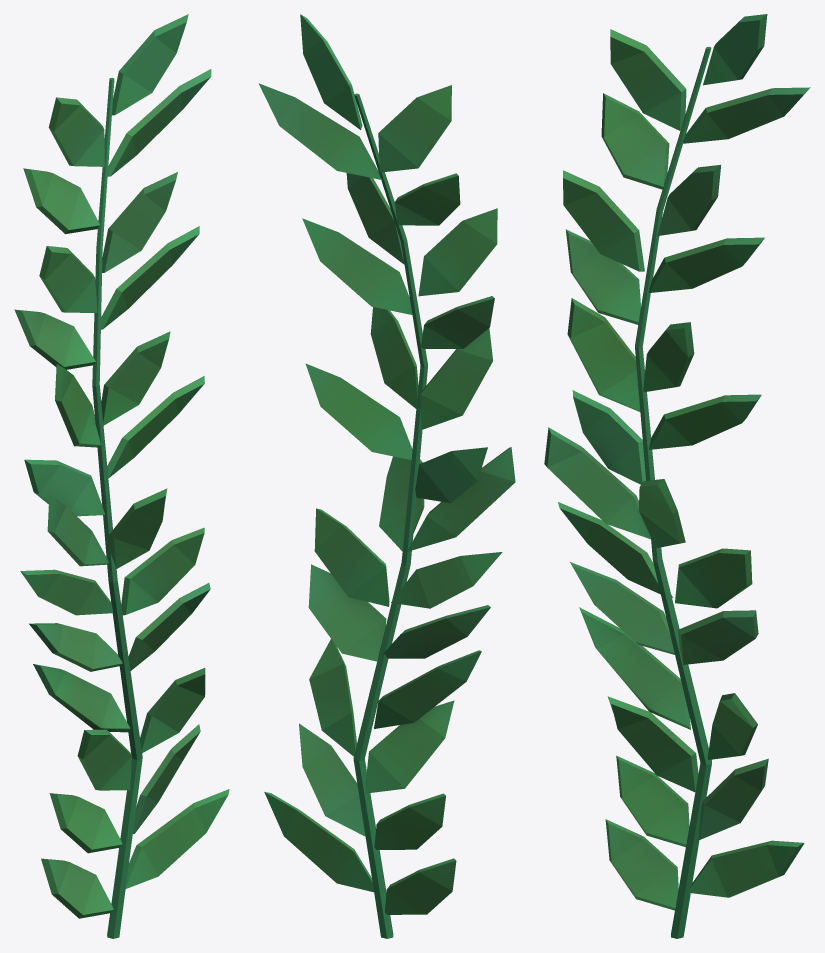
The model's file is algue.obj.
3 views of the same model, side by side, from view 1: azimuth 30°, elevation 25°; view 2: azimuth 150°, elevation 25°; view 3: azimuth 330°, elevation 25° (orthographic). The views are drawn at different scales.
Parts seen in each view (by area): view 1: Kelp_mesh; view 2: Kelp_mesh; view 3: Kelp_mesh.
Part boxes in pixels (x1,y1,x2,y2): Kelp_mesh: (14, 14, 229, 938); Kelp_mesh: (258, 14, 515, 938); Kelp_mesh: (544, 14, 810, 938).
Bounding box in the file's own units: 0.2872 × 1.11 × 0.1229.
Materials: 1 (1 with a texture image).
